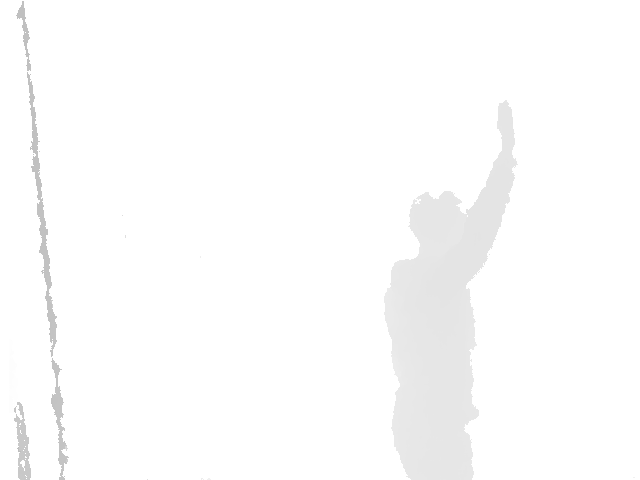hand: (496, 100, 517, 152)
head: (408, 190, 471, 259)
person: (383, 100, 517, 480)
